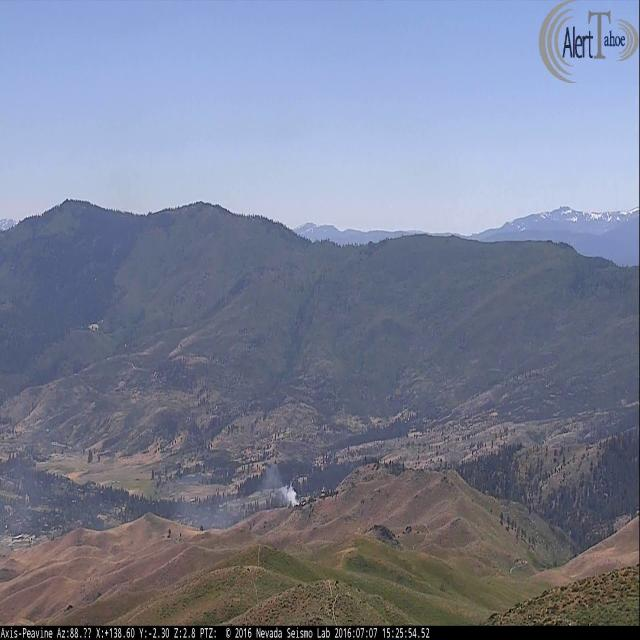smoke: (164, 460, 300, 527), (1, 456, 43, 556)
